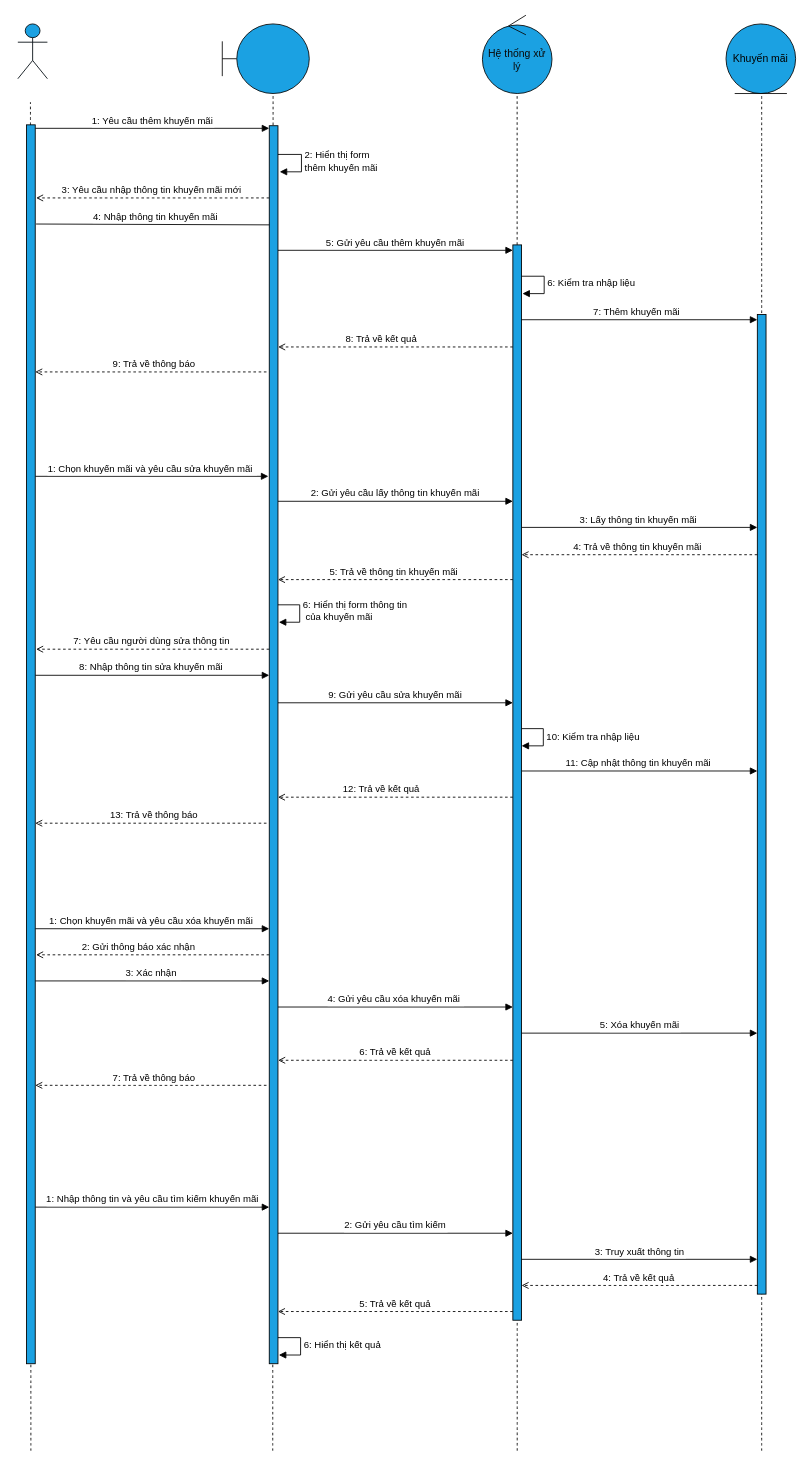
Some shapes in this 811 by 1467 pixel diagram are drawn without their labels. Here are the shapes that lost their labels. From the top down, the box of each, then its label:
(17, 23, 47, 79): Quản lý
(221, 23, 309, 94): Trang hệ thống
